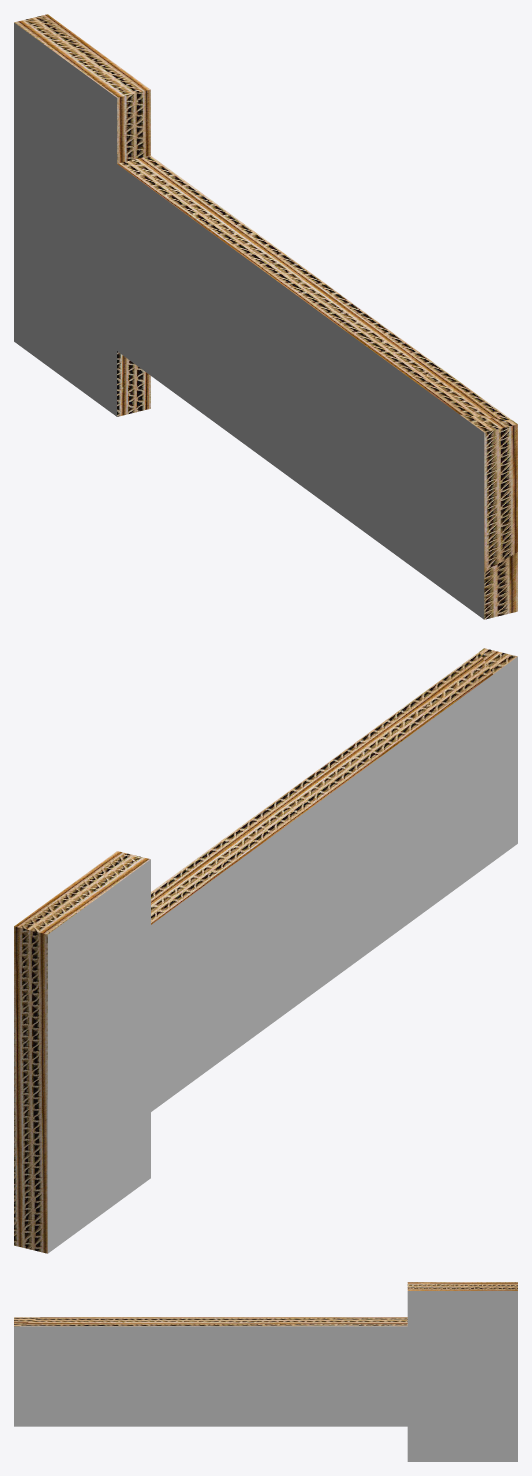
The model's file is Revenue.fbx.
The picture shows the model from 3 angles, top to bottom: view 1: azimuth 30°, elevation 25°; view 2: azimuth 150°, elevation 25°; view 3: azimuth 270°, elevation 25°; orthographic projection. The views are drawn at different scales.
Parts seen in each view (by area): view 1: Revenue; view 2: Revenue; view 3: Revenue.
Part boxes in pixels (left/top/right/bottom): Revenue: left=14, top=14, right=517, bottom=619; Revenue: left=14, top=648, right=517, bottom=1253; Revenue: left=14, top=1282, right=517, bottom=1461.
Size of the model in its own units: 2.22 by 20.01 by 53.45.
2 materials, 1 textured.
